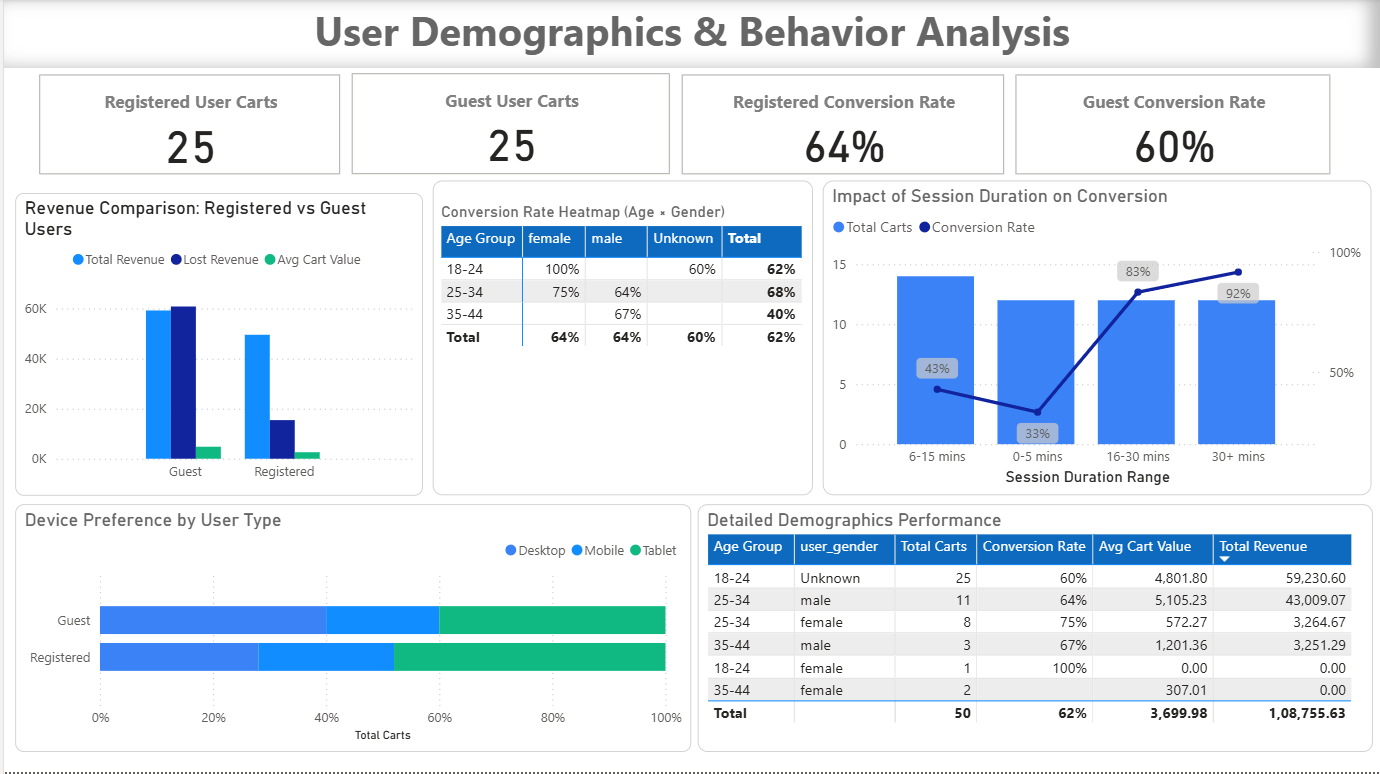

This screenshot's page, from the dashboard's own definition file:
{"tool":"powerbi","page":{"name":"👤 User Behavior","canvas":[1280,720],"ordinal":3},"visuals":[{"type":"textbox","box":[0,0,1280.2,65.1],"z":0},{"type":"cardVisual","fields":{"Data":["Category_Performance.Registered User Carts"]},"box":[27.9,66.3,290.7,103.5],"z":1000},{"type":"cardVisual","fields":{"Data":["Category_Performance.Guest User Carts"]},"box":[318.6,65.1,307,104.7],"z":2000},{"type":"cardVisual","fields":{"Data":["Category_Performance.Registered Conversion Rate"]},"box":[625.6,66.3,310.5,103.5],"z":3000},{"type":"cardVisual","fields":{"Data":["Category_Performance.Guest Conversion Rate"]},"box":[936,66.3,303.5,103.5],"z":4000},{"type":"clusteredColumnChart","title":"Revenue Comparison: Registered vs Guest Users","fields":{"Category":["CartData_Cleaned.User Type"],"Y":["CartData_Cleaned.Total Revenue","CartData_Cleaned.Lost Revenue","CartData_Cleaned.Avg Cart Value"]},"box":[10.5,181.4,379.1,281.4],"z":5000},{"type":"pivotTable","title":"Conversion Rate Heatmap (Age × Gender)","fields":{"Rows":["CartData_Cleaned.Age Group"],"Columns":["CartData_Cleaned.user_gender"],"Values":["CartData_Cleaned.Conversion Rate"]},"box":[398.8,169.8,353.5,293],"z":6000},{"type":"lineClusteredColumnComboChart","title":"Impact of Session Duration on Conversion","fields":{"Category":["CartData_Cleaned.Session Duration Range"],"Y":["CartData_Cleaned.Total Carts"],"Y2":["CartData_Cleaned.Conversion Rate"]},"box":[761.6,169.8,510.5,293],"z":7000},{"type":"hundredPercentStackedBarChart","title":"Device Preference by User Type","fields":{"Category":["CartData_Cleaned.User Type"],"Y":["CartData_Cleaned.Total Carts"],"Series":["CartData_Cleaned.device_type"]},"box":[10.5,470.9,629.1,230.2],"z":8000},{"type":"tableEx","title":"Detailed Demographics Performance","fields":{"Values":["CartData_Cleaned.Age Group","CartData_Cleaned.user_gender","CartData_Cleaned.Total Carts","CartData_Cleaned.Conversion Rate","CartData_Cleaned.Avg Cart Value","CartData_Cleaned.Total Revenue"]},"box":[645.4,470.9,627.9,230.2],"z":9000}]}

Visuals, with their boxes in screenshot pixels (x1, y1, x2, y2), scaled from the page's 1280x720 canvas onto the 1380x774 screenshot:
textbox: {"x1": 0, "y1": 0, "x2": 1379, "y2": 70}
cardVisual - Category_Performance.Registered User Carts: {"x1": 30, "y1": 71, "x2": 343, "y2": 183}
cardVisual - Category_Performance.Guest User Carts: {"x1": 343, "y1": 70, "x2": 674, "y2": 183}
cardVisual - Category_Performance.Registered Conversion Rate: {"x1": 674, "y1": 71, "x2": 1009, "y2": 183}
cardVisual - Category_Performance.Guest Conversion Rate: {"x1": 1009, "y1": 71, "x2": 1336, "y2": 183}
"Revenue Comparison: Registered vs Guest Users" clusteredColumnChart: {"x1": 11, "y1": 195, "x2": 420, "y2": 498}
"Conversion Rate Heatmap (Age × Gender)" pivotTable: {"x1": 430, "y1": 183, "x2": 811, "y2": 498}
"Impact of Session Duration on Conversion" lineClusteredColumnComboChart: {"x1": 821, "y1": 183, "x2": 1371, "y2": 498}
"Device Preference by User Type" hundredPercentStackedBarChart: {"x1": 11, "y1": 506, "x2": 690, "y2": 754}
"Detailed Demographics Performance" tableEx: {"x1": 696, "y1": 506, "x2": 1373, "y2": 754}
